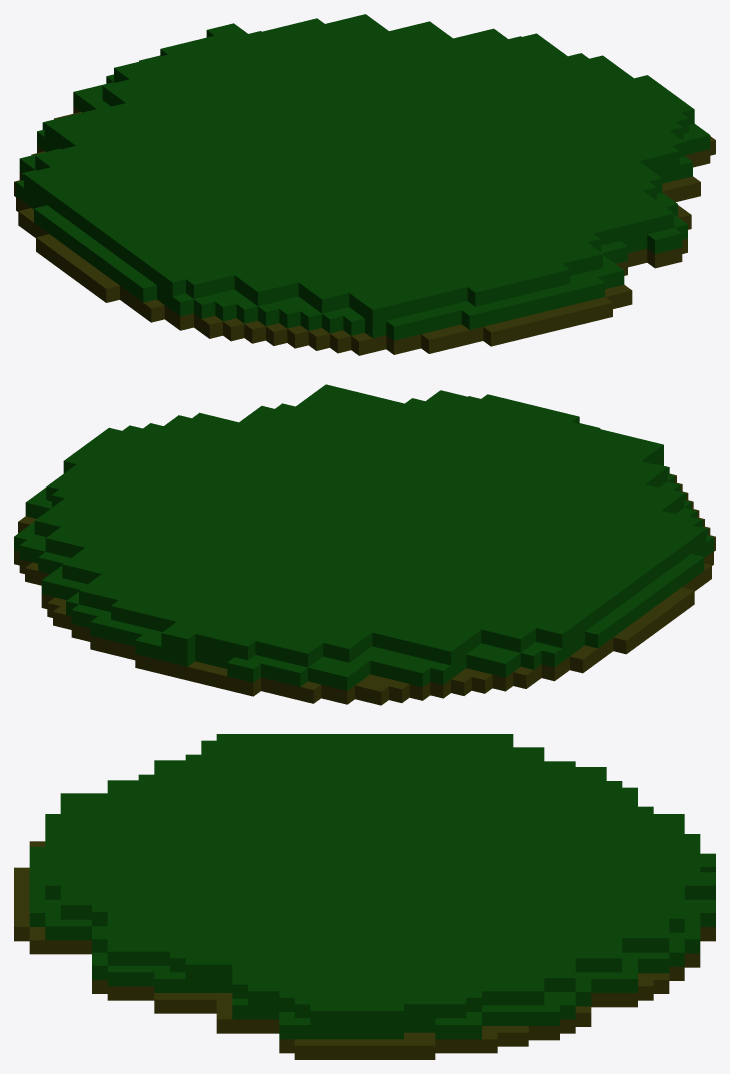
The model's file is island.obj.
3 renders of one model, top to bottom at view 1: azimuth 30°, elevation 25°; view 2: azimuth 150°, elevation 25°; view 3: azimuth 270°, elevation 25°, orthographic. The views are drawn at different scales.
Bounding box in the file's own units: 45 × 3 × 45.
Materials: 1 (1 with a texture image).
